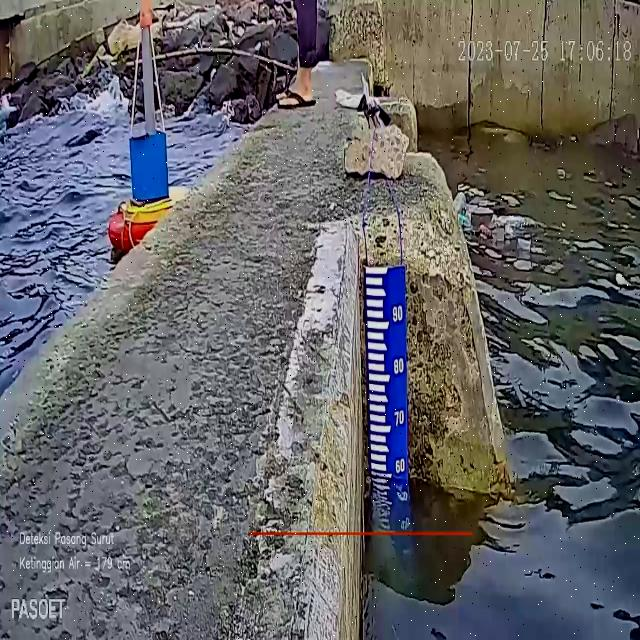60: (394, 456, 406, 476)
70: (394, 409, 405, 427)
80: (393, 356, 404, 377)
90: (392, 304, 404, 323)
staff: (366, 266, 408, 484)
